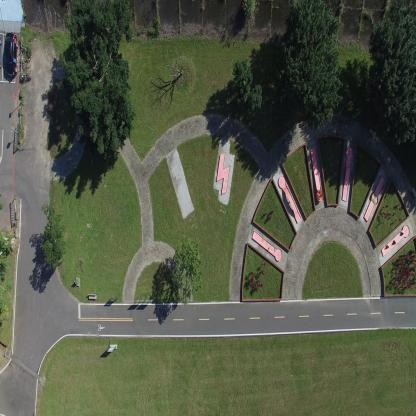car: (3, 31, 18, 76), (0, 35, 3, 70)
